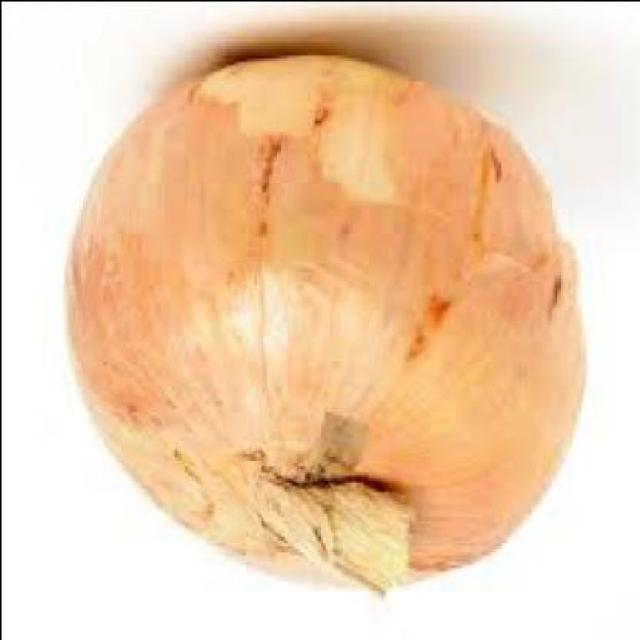BIODEGRADABLE: (68, 51, 584, 589)
